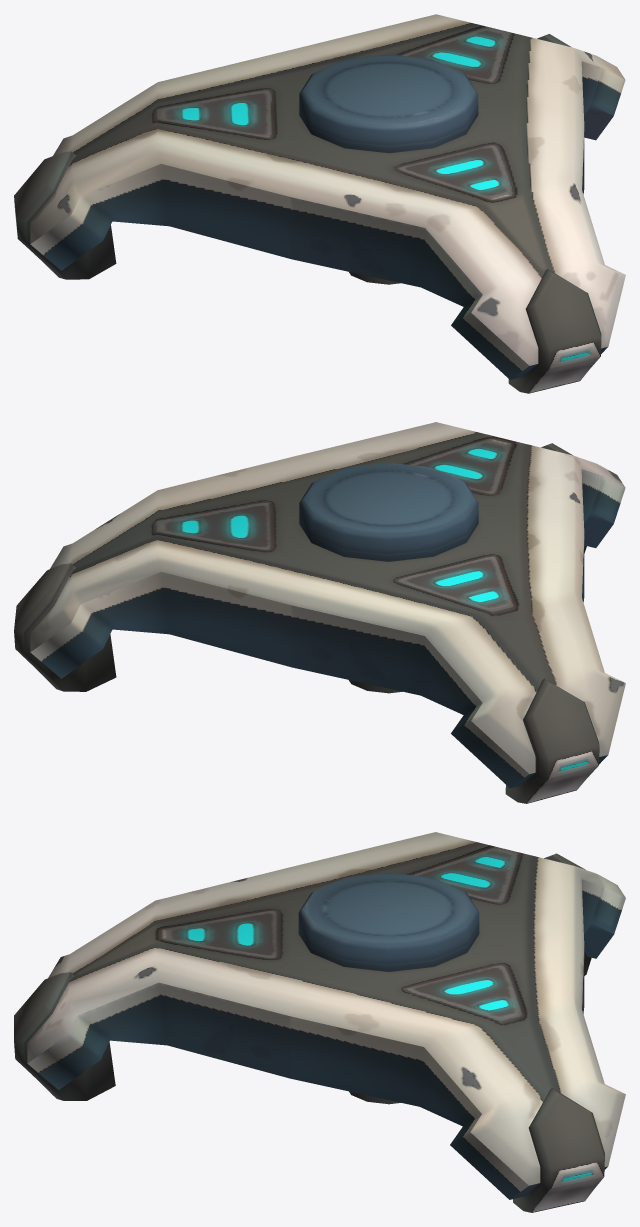
Rendered from ChuanSongqi.FBX.
3 renders of one model, top to bottom at view 1: azimuth 30°, elevation 25°; view 2: azimuth 150°, elevation 25°; view 3: azimuth 270°, elevation 25°, orthographic.
Visible parts, largest first — view 1: chuansongqi_dizuo; view 2: chuansongqi_dizuo; view 3: chuansongqi_dizuo.
Boxes of the visible parts, x1,y1,x2,y2 form: chuansongqi_dizuo: [14, 14, 625, 393]; chuansongqi_dizuo: [14, 422, 625, 803]; chuansongqi_dizuo: [14, 832, 625, 1212].
Size of the model in its own units: 0.7337 by 0.2127 by 0.6636.
